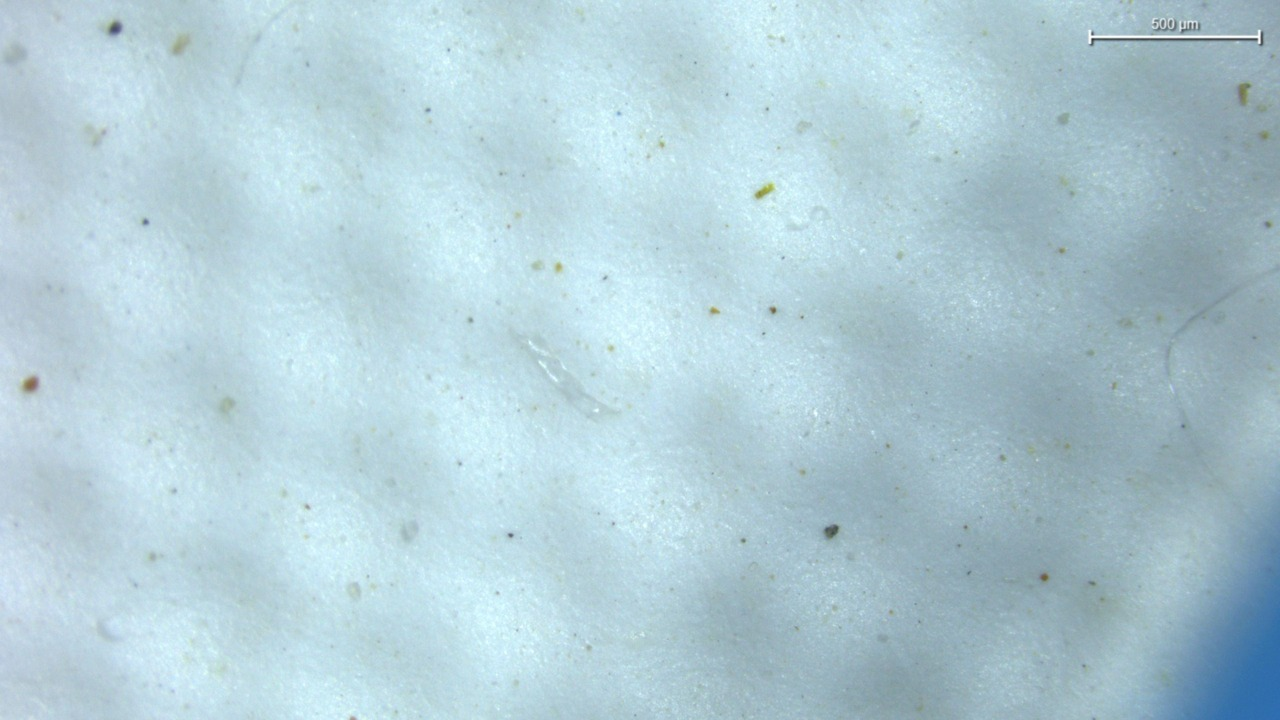microplastic_fragment: (517, 335, 618, 418)
